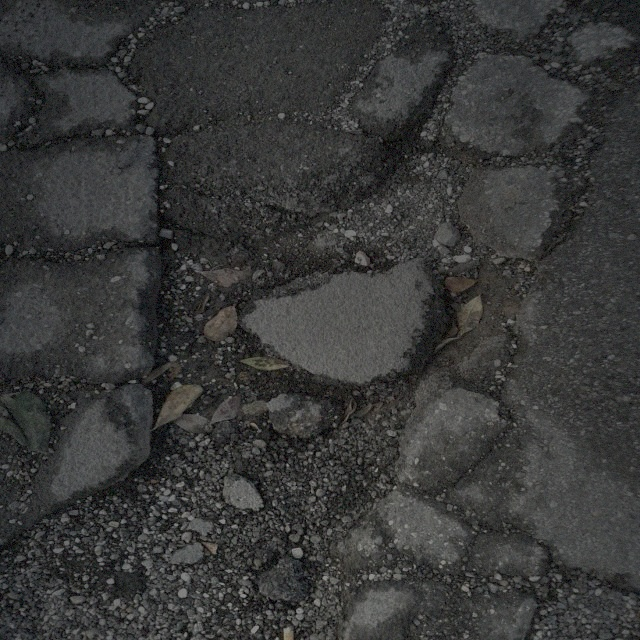pothole: (133, 210, 262, 464), (444, 222, 532, 414)
